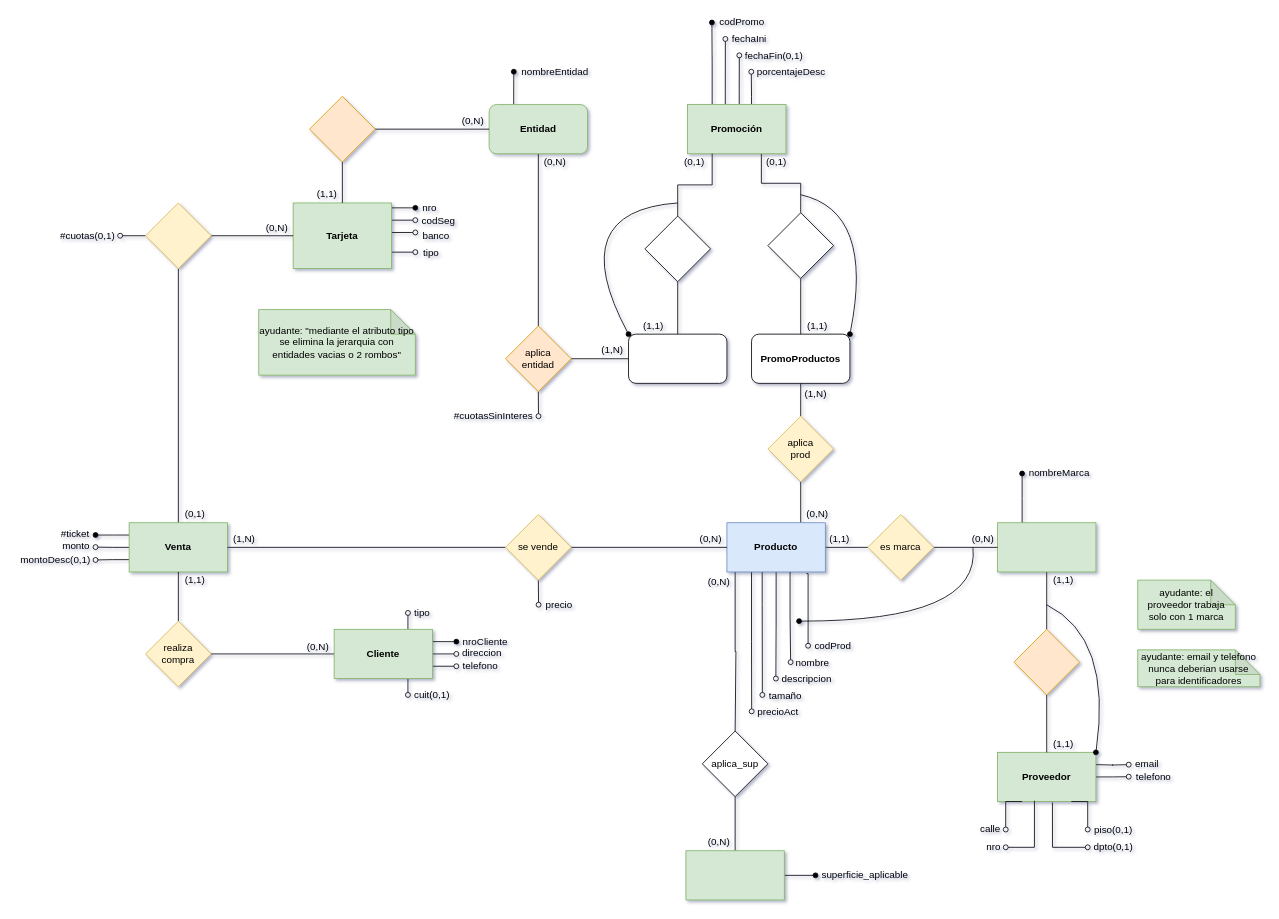
The diagram is 1279 pixels wide and 919 high, and some of its shapes have lost their labels. Each missing label, with the centre of its shape:
es_tipo producto: point 800,245
es_tipo tarjetas: point 677,248
Marca: point 1046,547
pertenece: point 342,129
PromoTarjeta: point 677,358
provee: point 1046,662
se paga: point 178,235
SuperficieAplicable: point 734,875
